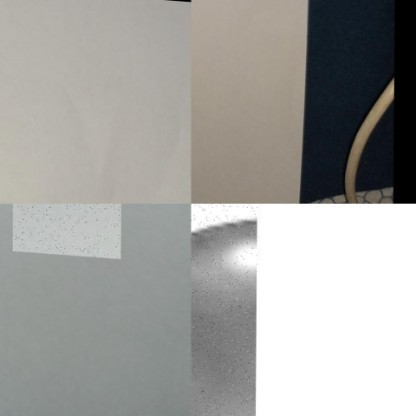ironball: (191, 203, 257, 415)
